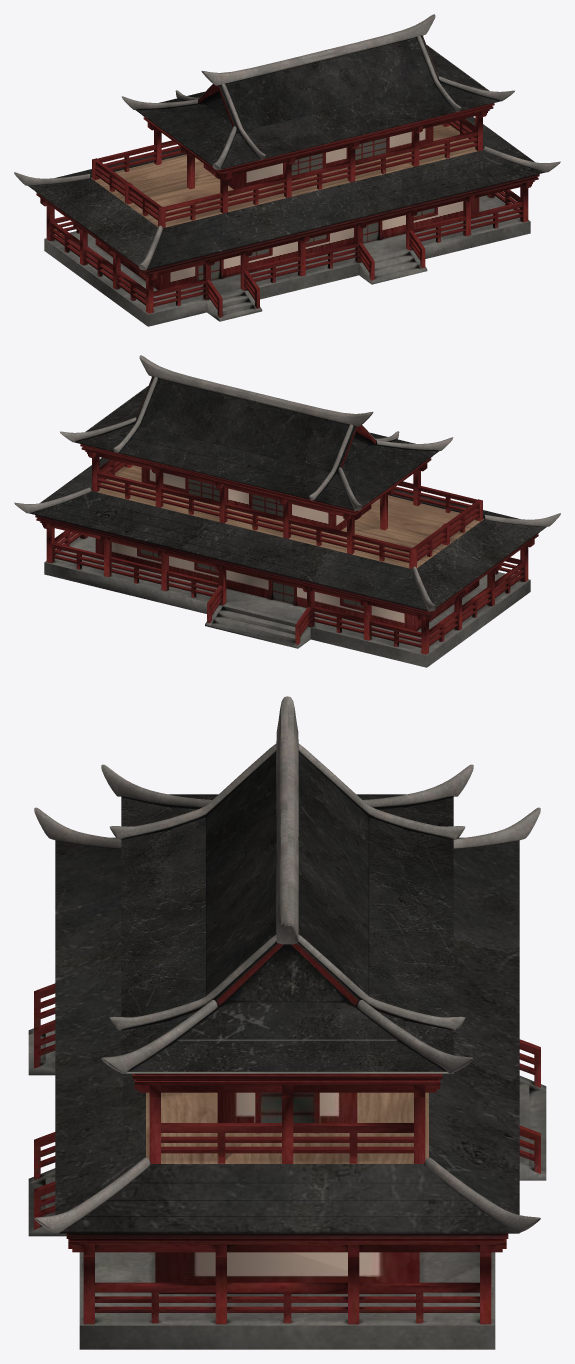
Rendered from cn_hall.glb.
The picture shows the model from 3 angles, top to bottom: view 1: azimuth 30°, elevation 25°; view 2: azimuth 150°, elevation 25°; view 3: azimuth 270°, elevation 25°; orthographic projection. The views are drawn at different scales.
Parts seen in each view (by area): view 1: cn_hall; view 2: cn_hall; view 3: cn_hall.
Boxes of the visible parts, x1,y1,x2,y2 form: cn_hall: (14, 14, 560, 326); cn_hall: (14, 355, 560, 667); cn_hall: (28, 696, 546, 1349).
Bounding box in the file's own units: 25.79 × 11.21 × 13.7.
4 materials, 4 textured.
